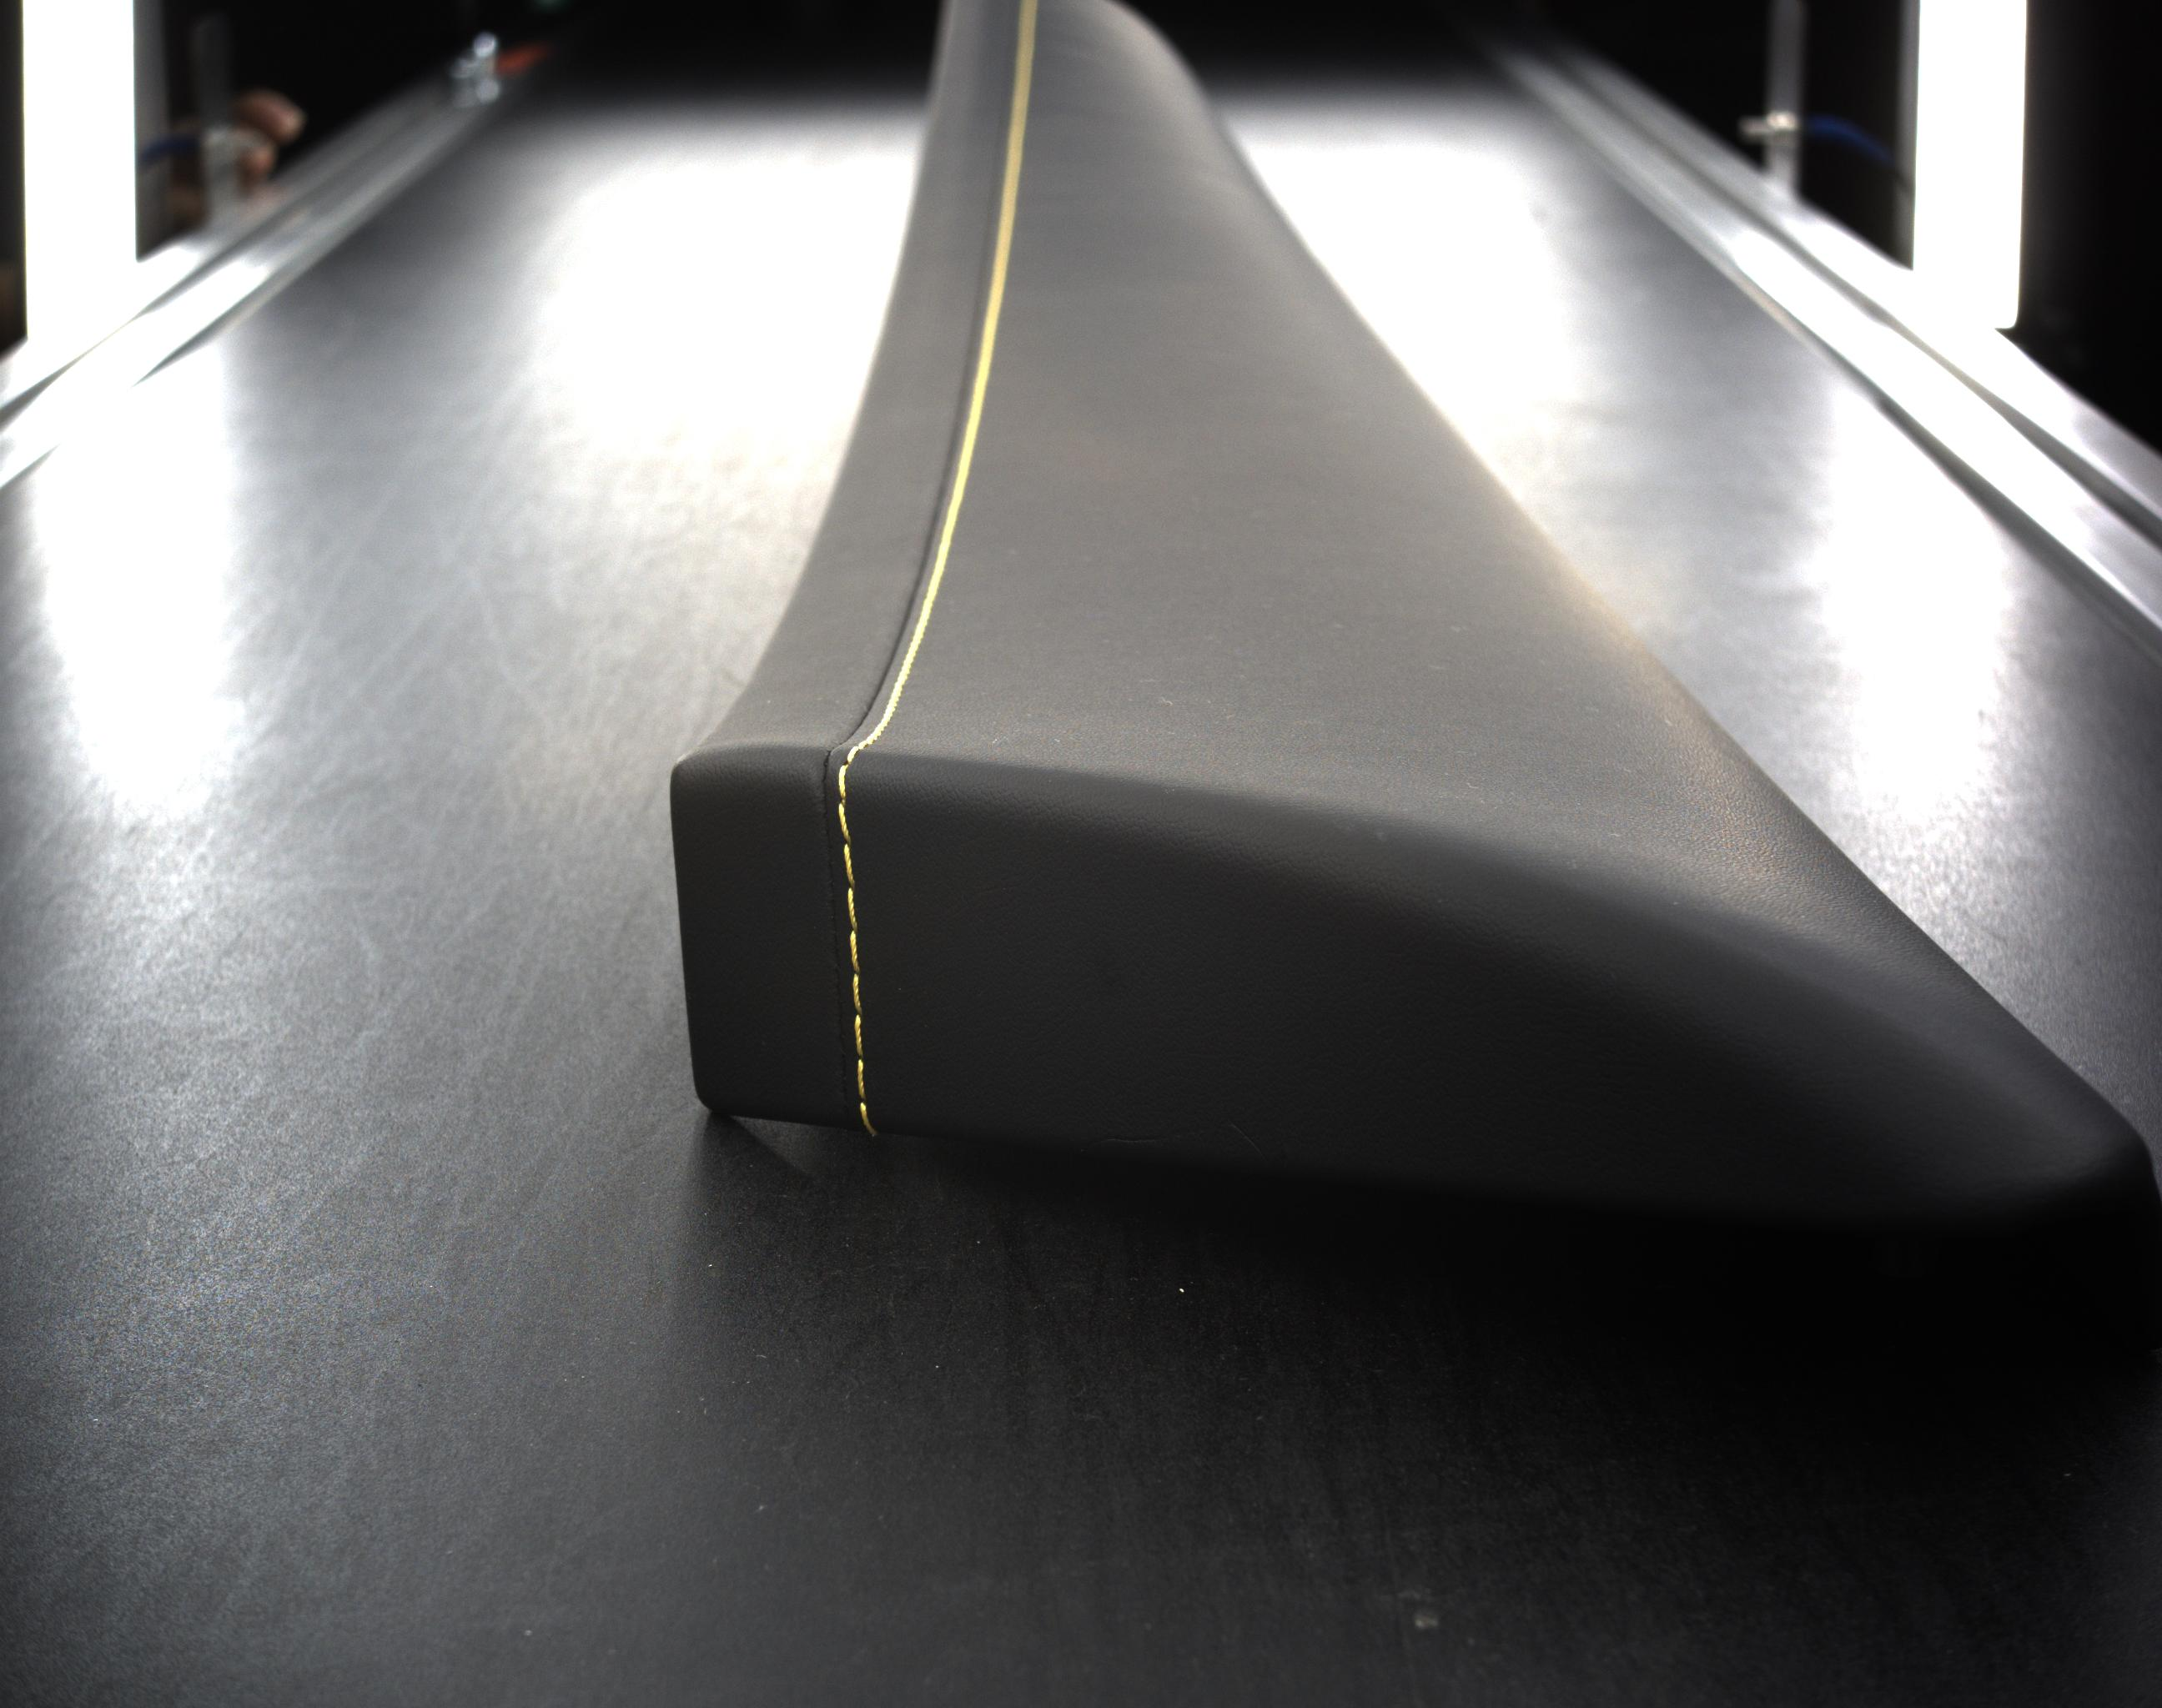vline: (841, 846, 856, 885), (846, 888, 860, 929), (848, 932, 862, 972), (851, 1013, 863, 1057), (835, 765, 851, 799), (837, 804, 851, 841), (855, 1057, 867, 1095), (851, 972, 862, 1011), (860, 1102, 870, 1127)
